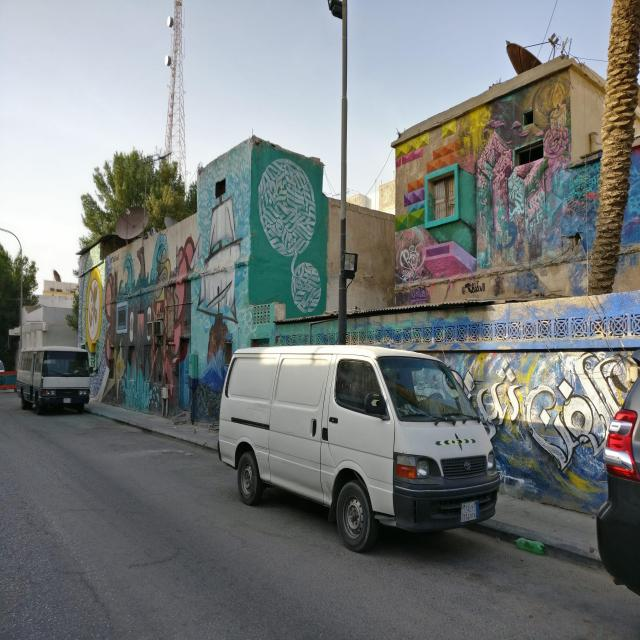license_plate: (460, 500, 480, 523), (64, 396, 71, 402)
